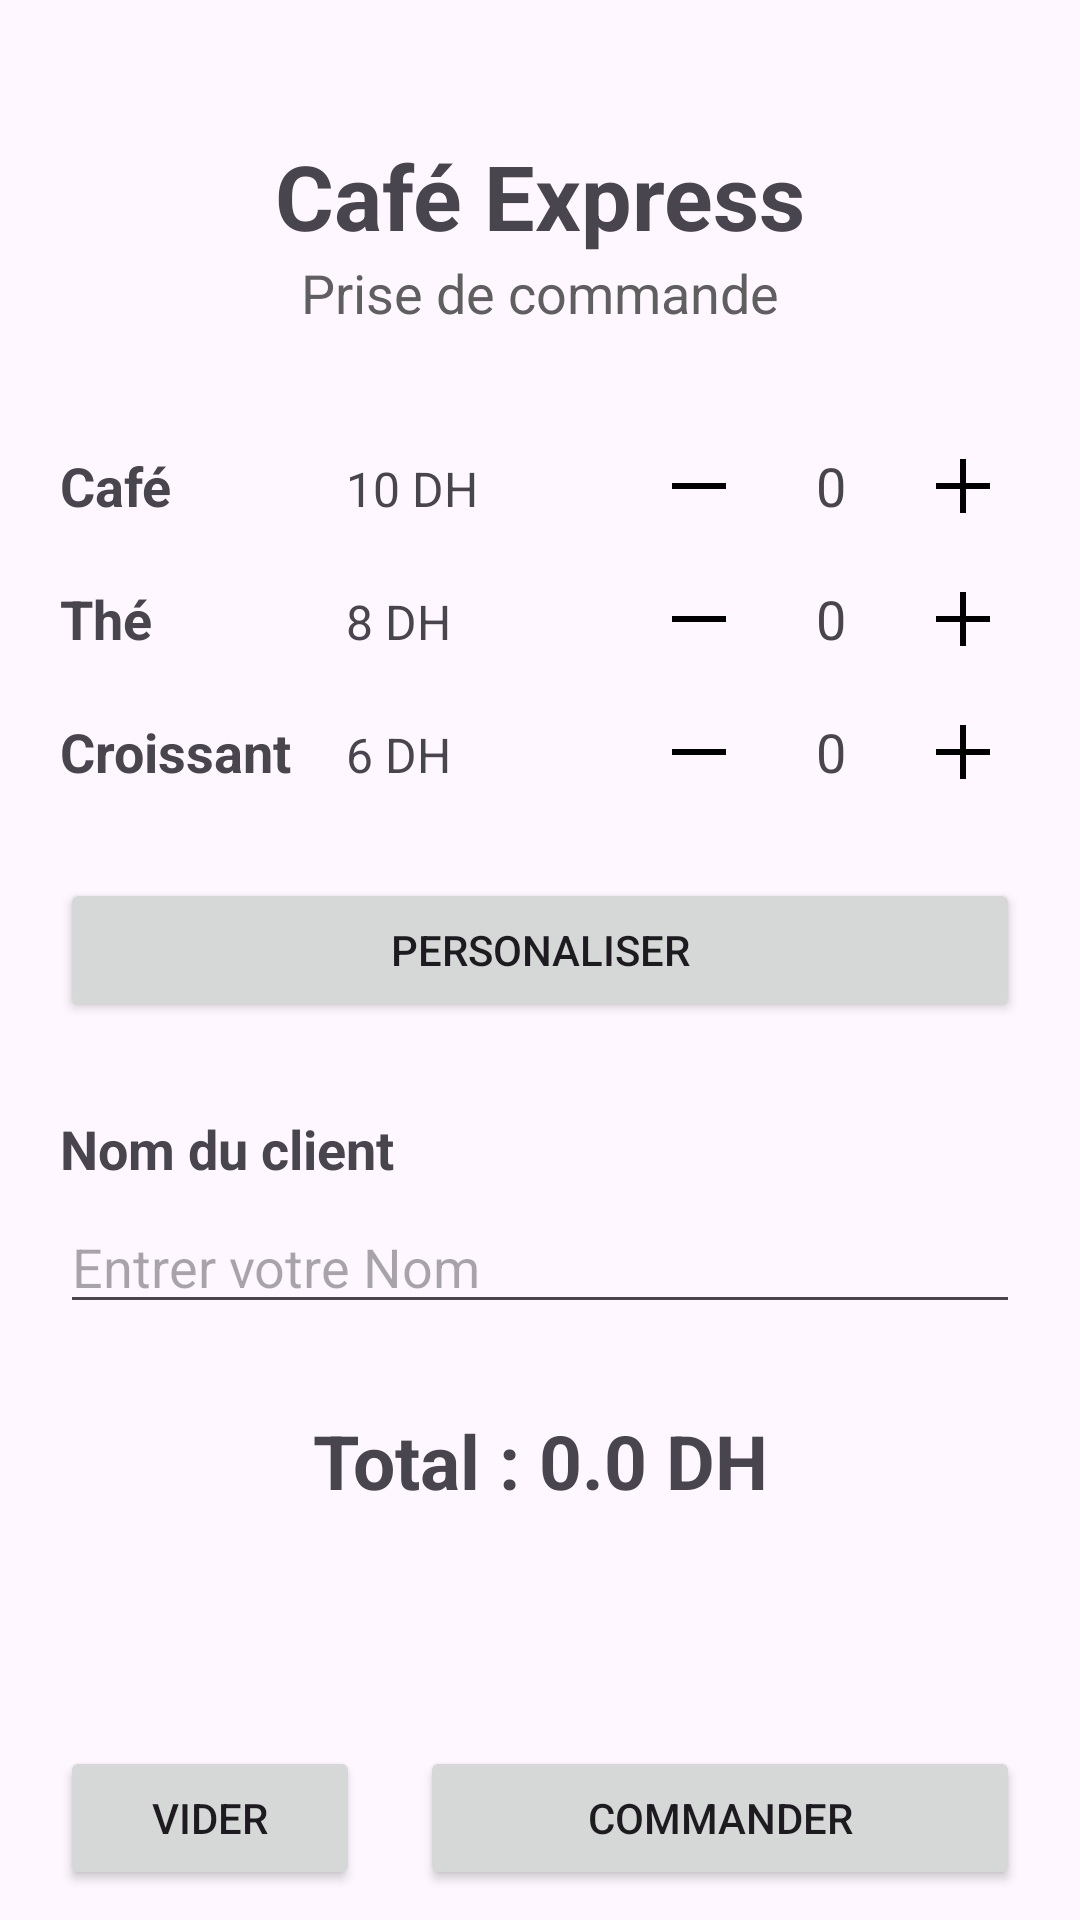

Named icons in this screenshot (1080*1920) and their centers, point (x, y):
plus: point (963, 486), point (963, 619), point (963, 752)
